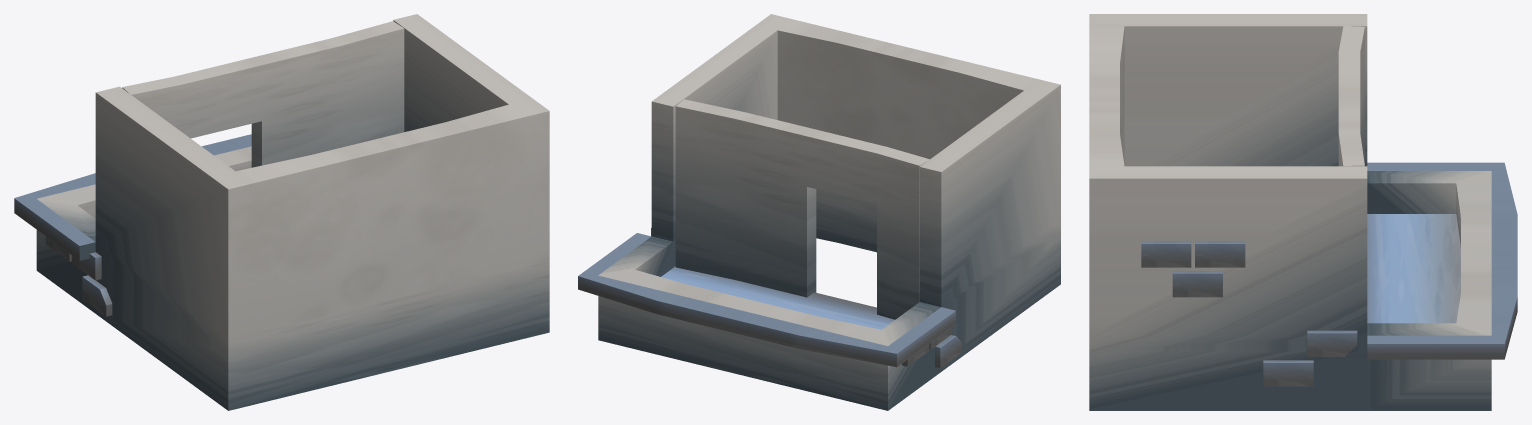
The model's file is Building_Top_1.fbx.
3 renders of one model, left to right at view 1: azimuth 30°, elevation 25°; view 2: azimuth 150°, elevation 25°; view 3: azimuth 270°, elevation 25°, orthographic. The views are drawn at different scales.
Visible parts, largest first — view 1: Building_top_1; view 2: Building_top_1; view 3: Building_top_1.
Part boxes in pixels (bbox=[...]): Building_top_1: bbox=[14, 14, 549, 410]; Building_top_1: bbox=[578, 14, 1060, 410]; Building_top_1: bbox=[1089, 14, 1517, 410].
Size of the model in its own units: 357 by 214 by 357.
